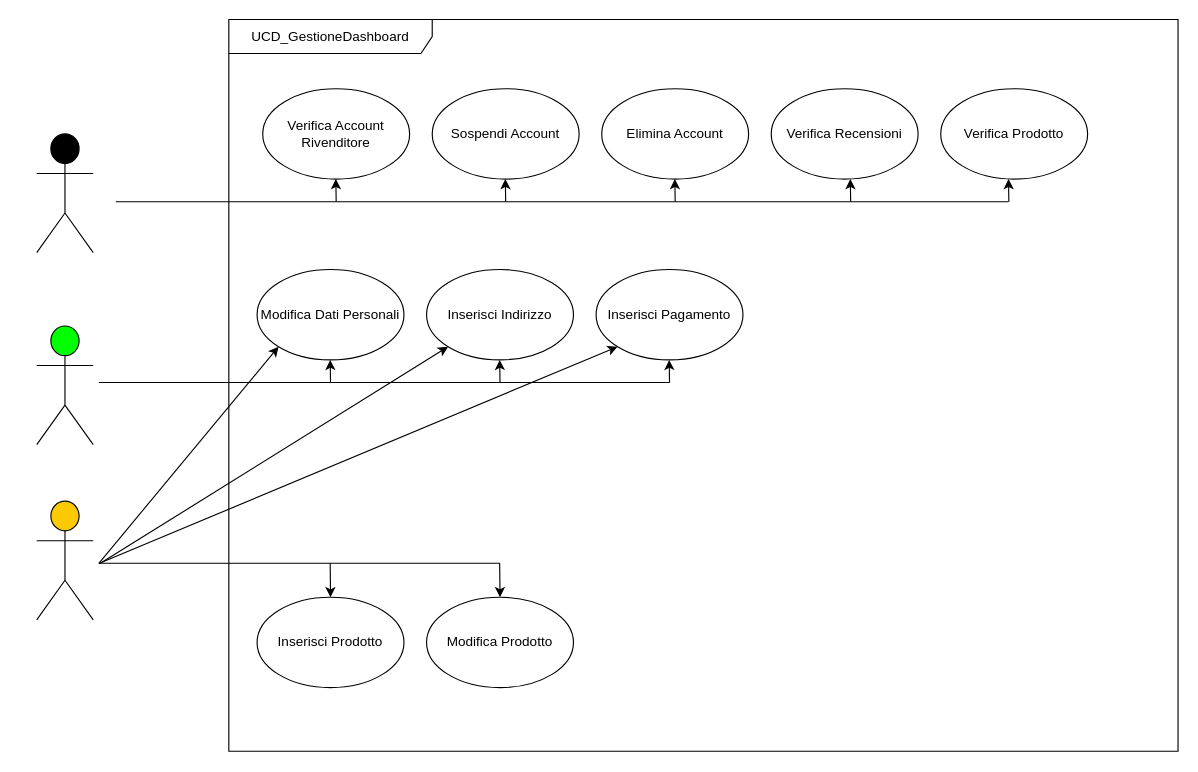
This 1198x772 diagram has some shape labels left out. Here are the shapes that lost their labels. From the top down, the centre of each, then its label:
pixel 64 193: Amministratore
pixel 64 385: Cliente
pixel 64 560: Rivenditore
